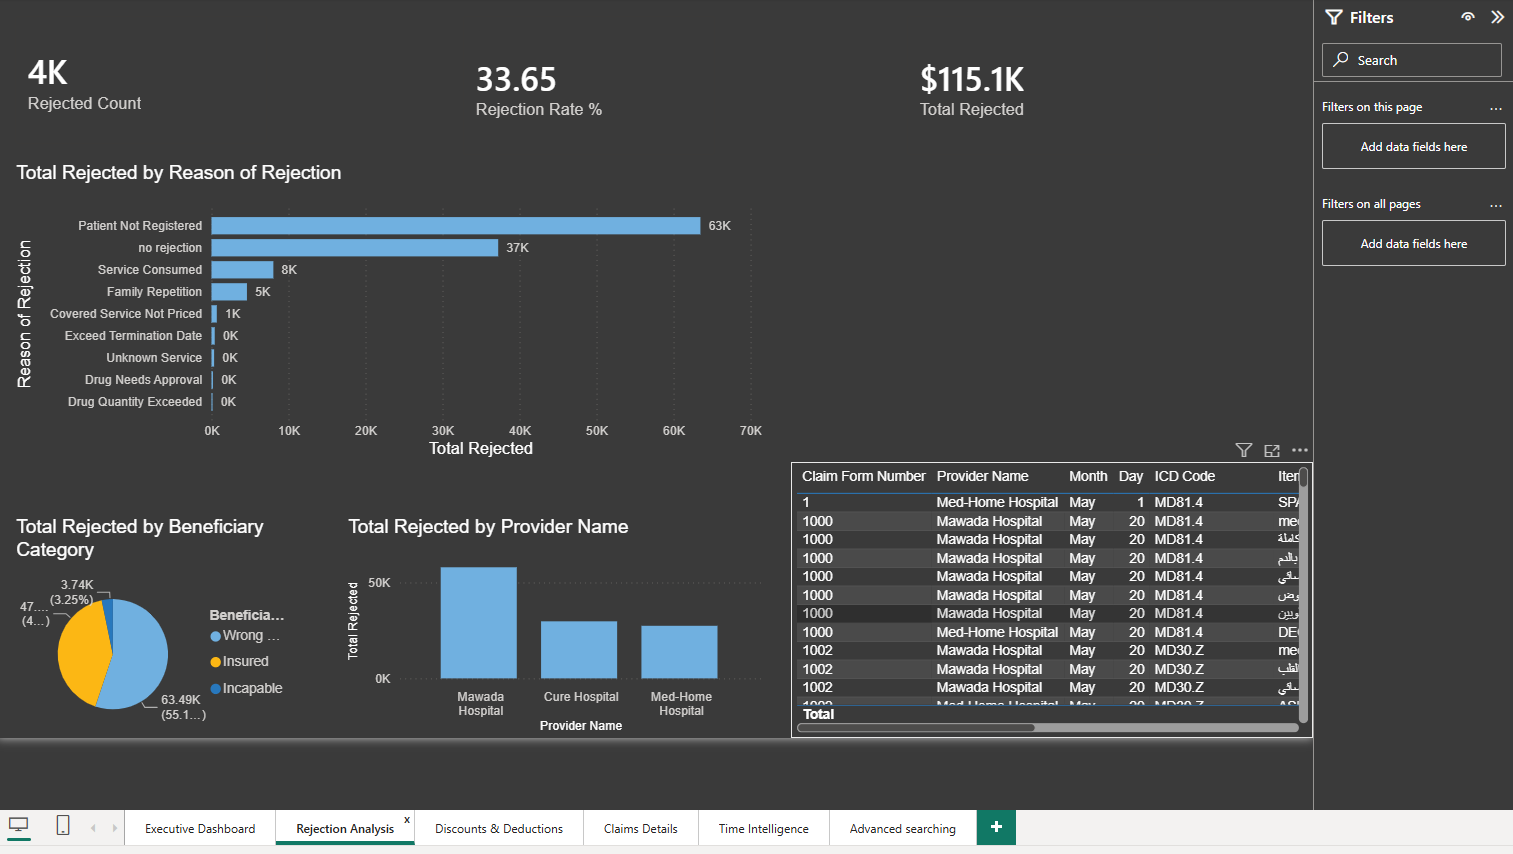

The page's visual inventory and layout, read from the dashboard file:
{"tool":"powerbi","page":{"name":"Rejection Analysis","canvas":[1280,720],"ordinal":1},"visuals":[{"type":"cardVisual","fields":{"Data":["claims.Rejected Count"]},"box":[13.6,0,280.1,170.2],"z":0},{"type":"cardVisual","fields":{"Data":["claims.Total Rejected"]},"box":[867.6,0,280.1,170.2],"z":1000},{"type":"cardVisual","fields":{"Data":["claims.Rejection Rate %"]},"box":[435.7,0,280.1,170.2],"z":2000},{"type":"clusteredBarChart","fields":{"Category":["claims.Reason of Rejection"],"Y":["claims.Total Rejected"]},"box":[13.6,159.5,735.3,291.8],"z":3000},{"type":"pieChart","fields":{"Category":["claims.Beneficiary Category"],"Y":["claims.Total Rejected"]},"box":[13.6,503.8,280.1,215.9],"z":4000},{"type":"clusteredColumnChart","fields":{"Category":["claims.Provider Name"],"Y":["claims.Total Rejected"]},"box":[336.5,503.8,412.4,215.9],"z":5000},{"type":"tableEx","fields":{"Values":["claims.Claim Form Number","claims.Provider Name","claims.Service Date.Variation.Date Hierarchy.Month","claims.Service Date.Variation.Date Hierarchy.Day","claims.ICD Code","claims.Item Description","claims.Reason of Rejection","claims.Total Rejected"]},"box":[772.3,451.3,507.7,268.4],"z":6000}]}

Visuals, with their boxes on the page's 1280x720 design canvas (x1, y1, x2, y2). These are canvas units, not pixel positions in the 1513x854 screenshot, which may show the page scaled, cropped or inside an application window:
cardVisual - claims.Rejected Count: <box>14,0,294,170</box>
cardVisual - claims.Total Rejected: <box>868,0,1148,170</box>
cardVisual - claims.Rejection Rate %: <box>436,0,716,170</box>
clusteredBarChart - claims.Reason of Rejection x claims.Total Rejected: <box>14,160,749,451</box>
pieChart - claims.Beneficiary Category x claims.Total Rejected: <box>14,504,294,720</box>
clusteredColumnChart - claims.Provider Name x claims.Total Rejected: <box>336,504,749,720</box>
tableEx - claims.Claim Form Number x claims.Provider Name: <box>772,451,1280,720</box>
